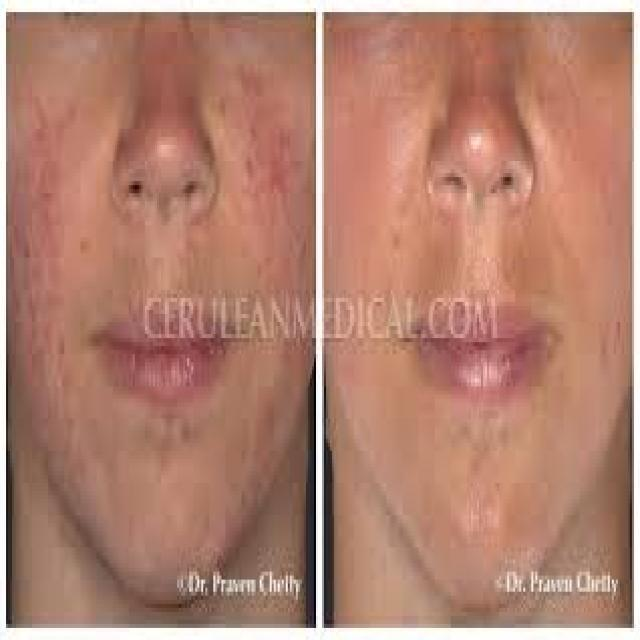Rosacea: (217, 65, 313, 293), (0, 94, 76, 377), (324, 32, 416, 264), (521, 44, 622, 212), (125, 32, 210, 162), (444, 31, 514, 163)
